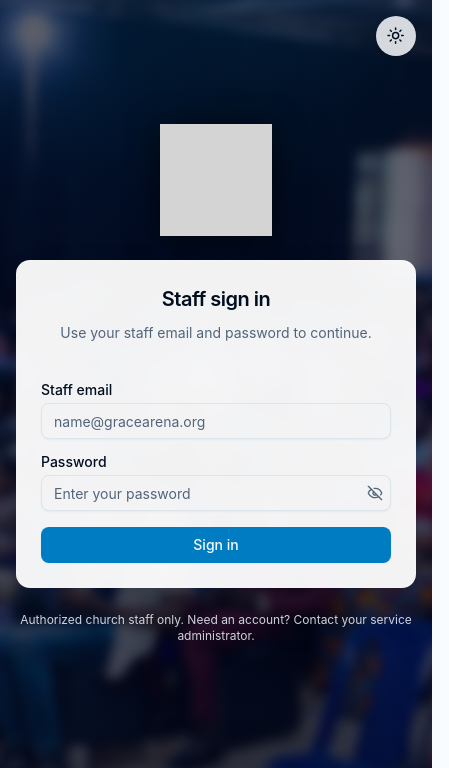
Test: CMAMS browser workflows › shows a clear sign-in error when credentials are rejected
In the field labelled "Staff email": {"x": 216, "y": 421} x1=41 y1=403 x2=391 y2=439, type "desk@example.com"
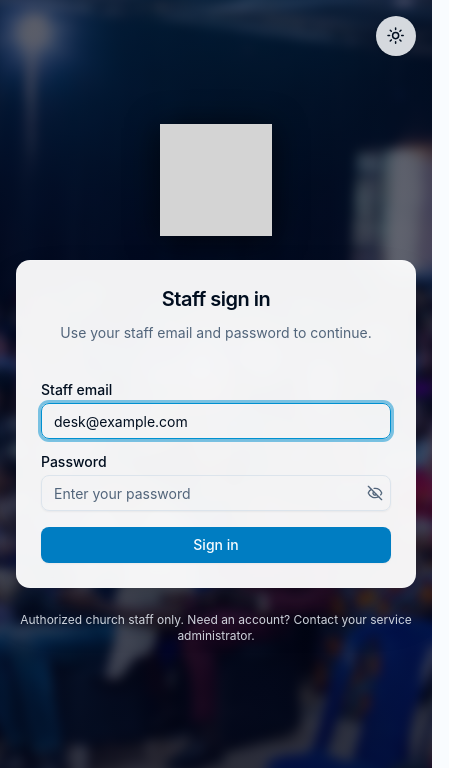
In the password field labelled "Password": {"x": 216, "y": 493} x1=41 y1=475 x2=391 y2=511, type "wrong-password-123"
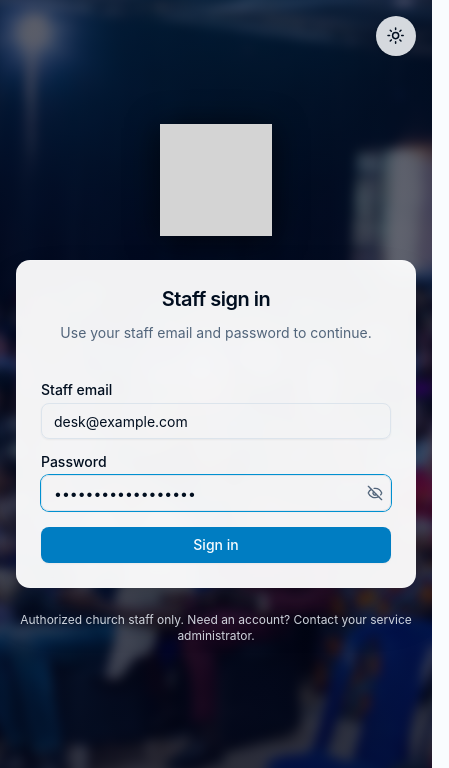
Click the button "Sign in": {"x": 216, "y": 545} x1=41 y1=527 x2=391 y2=563
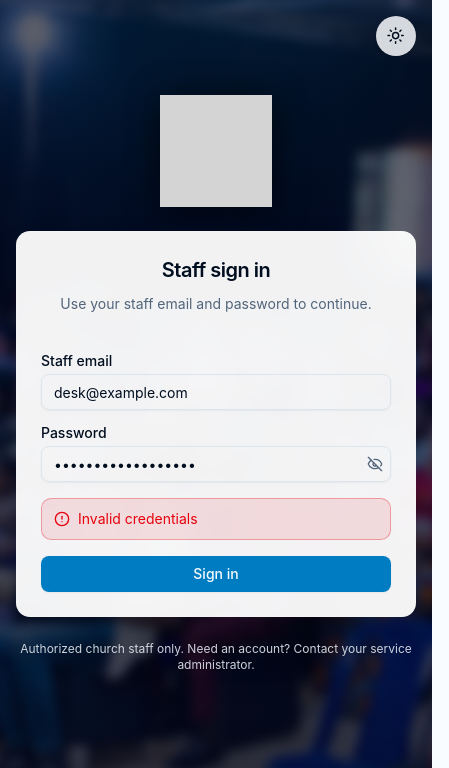
Now the message reads "Invalid credentials", box x1=78 y1=510 x2=198 y2=527
